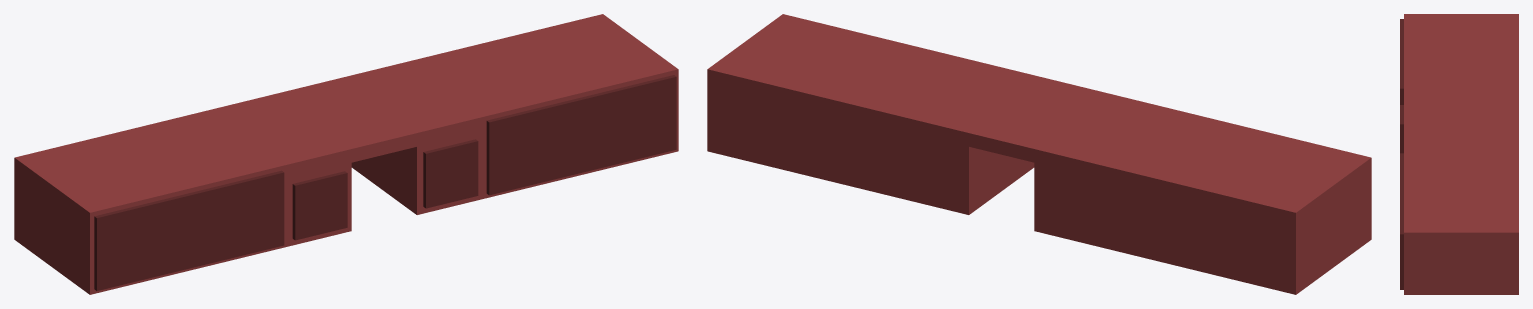
Rendered from Table.fbx.
3 renders of one model, left to right at view 1: azimuth 30°, elevation 25°; view 2: azimuth 150°, elevation 25°; view 3: azimuth 270°, elevation 25°, orthographic. The views are drawn at different scales.
Parts seen in each view (by area): view 1: Table; view 2: Table; view 3: Table.
Boxes of the visible parts, bbox=[...] form: Table: bbox=[14, 14, 678, 294]; Table: bbox=[707, 14, 1371, 294]; Table: bbox=[1400, 14, 1518, 294].
Bounding box in the file's own units: 135 × 18 × 31.
